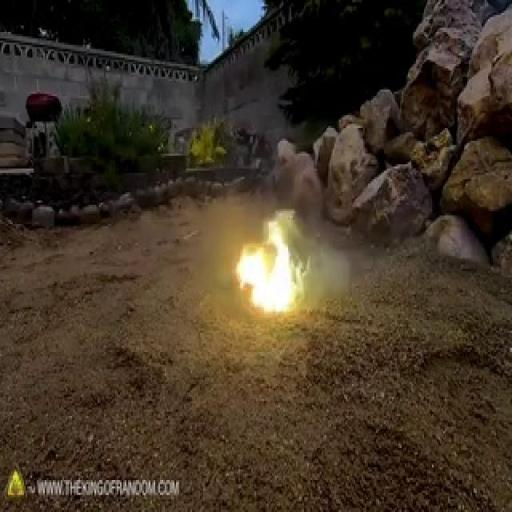smoke: (229, 191, 294, 317)
